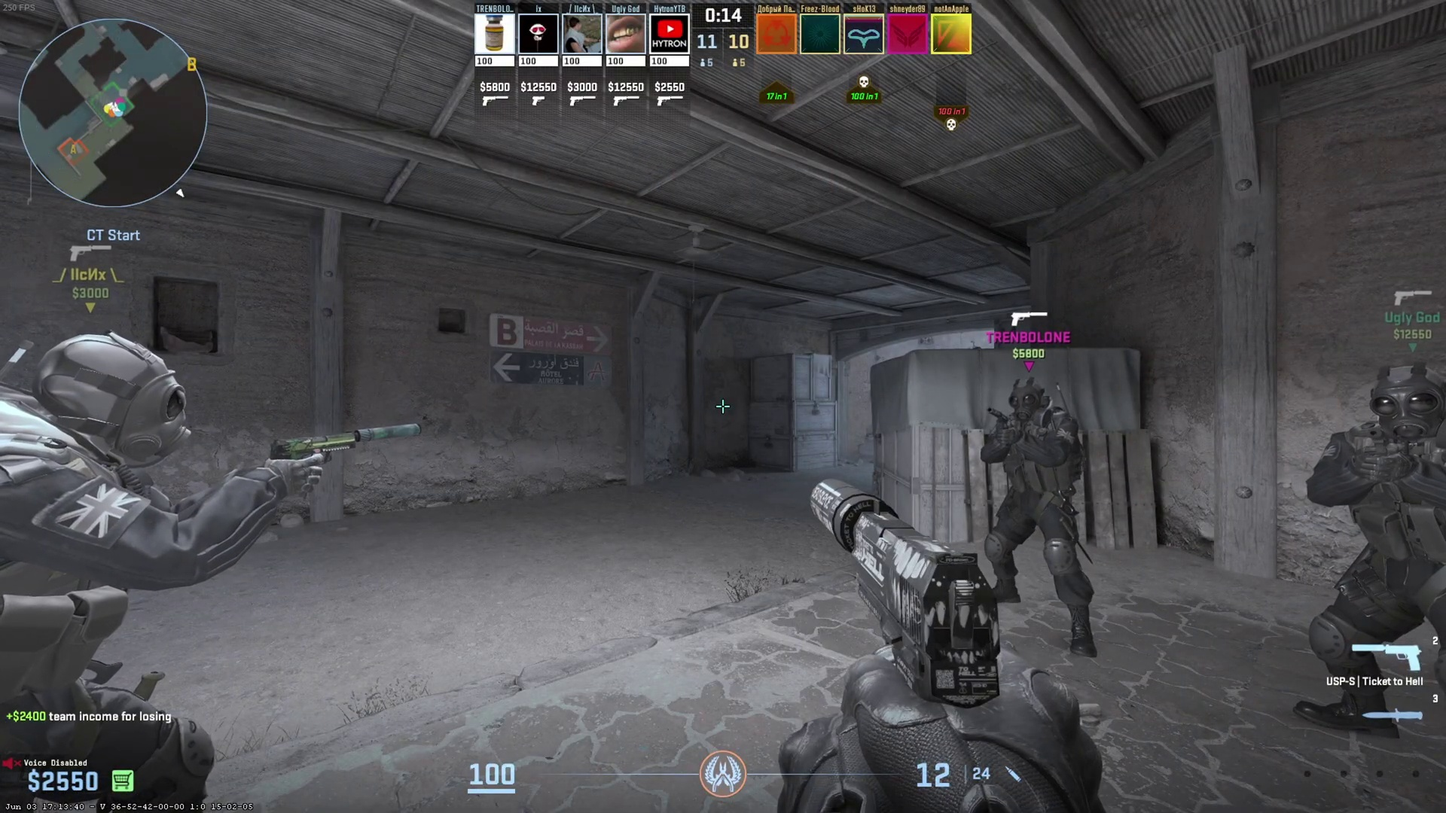CT: (0, 332, 215, 813), (1302, 363, 1446, 734), (991, 379, 1097, 656)
